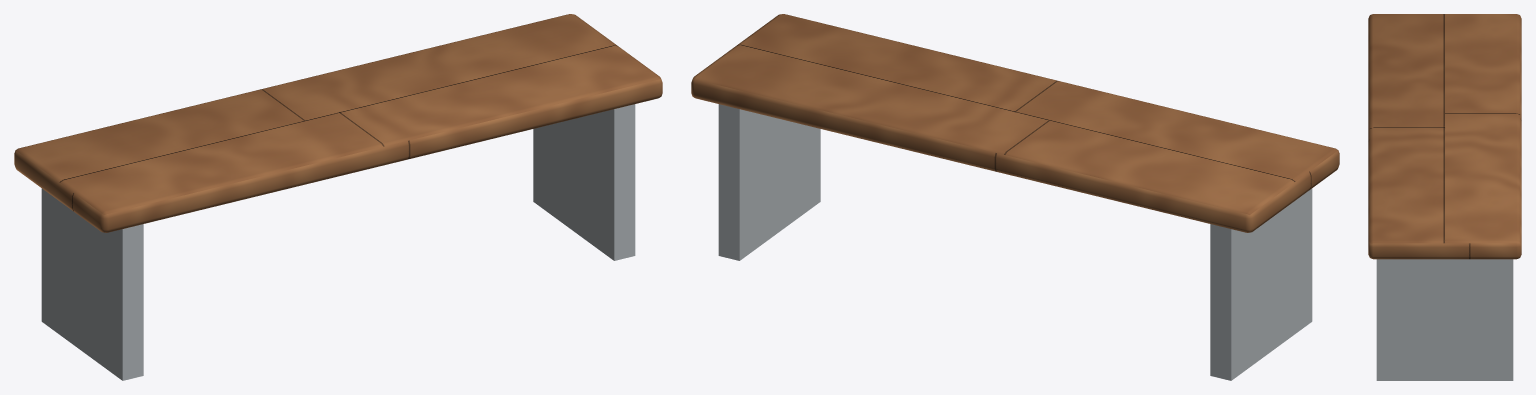
File: bench.gltf
3 renders of one model, left to right at view 1: azimuth 30°, elevation 25°; view 2: azimuth 150°, elevation 25°; view 3: azimuth 270°, elevation 25°, orthographic. The views are drawn at different scales.
Parts seen in each view (by area): view 1: bench_mesh; view 2: bench_mesh; view 3: bench_mesh.
Boxes of the visible parts, x1=… form: bench_mesh: x1=14, y1=14, x2=662, y2=380; bench_mesh: x1=691, y1=14, x2=1339, y2=380; bench_mesh: x1=1368, y1=14, x2=1521, y2=380.
Bounding box in the file's own units: 1.6 × 0.48 × 0.45.
2 materials, 1 textured.
